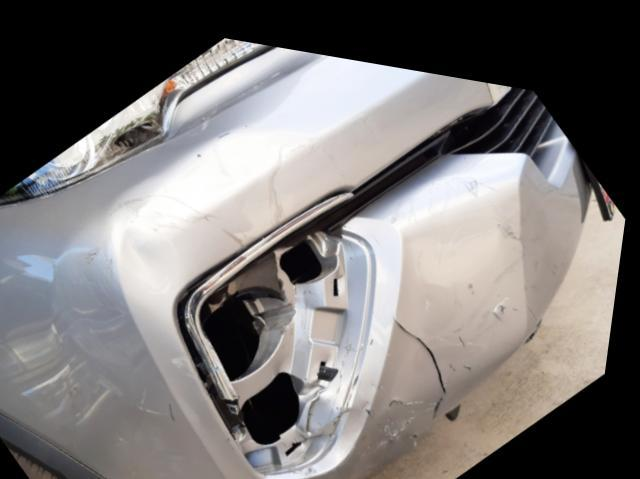crack: (399, 301, 456, 403)
dent: (126, 221, 183, 283)
no part: (207, 200, 356, 429)
